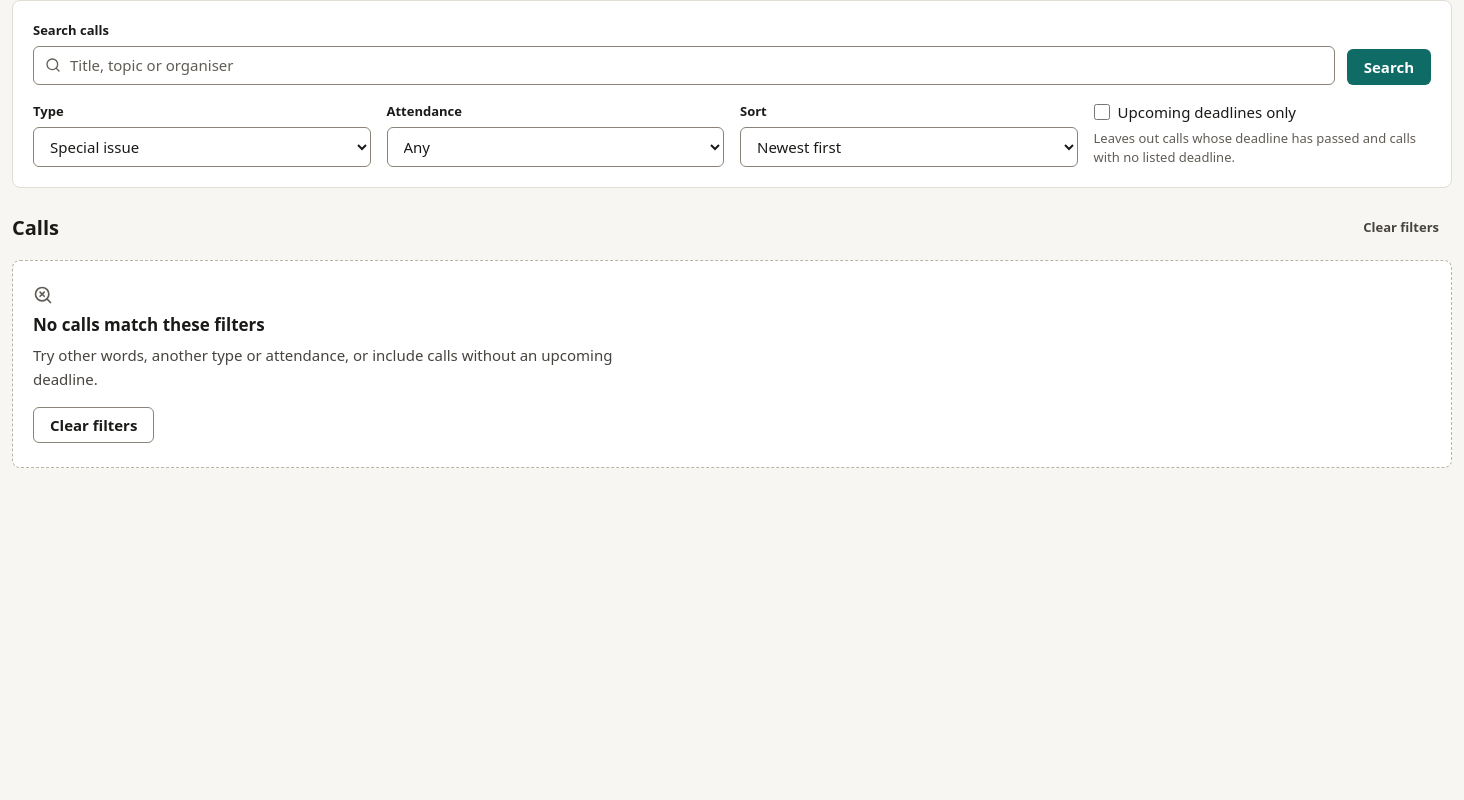
Calls for papers (/browse) › offers Clear filters when nothing matches, and Try again after a failure
Expected: the heading "No calls match these filters" is shown, [33,312,265,336]
Click the 1st button "Clear filters" at [1401, 228], box [1350,212,1452,244]
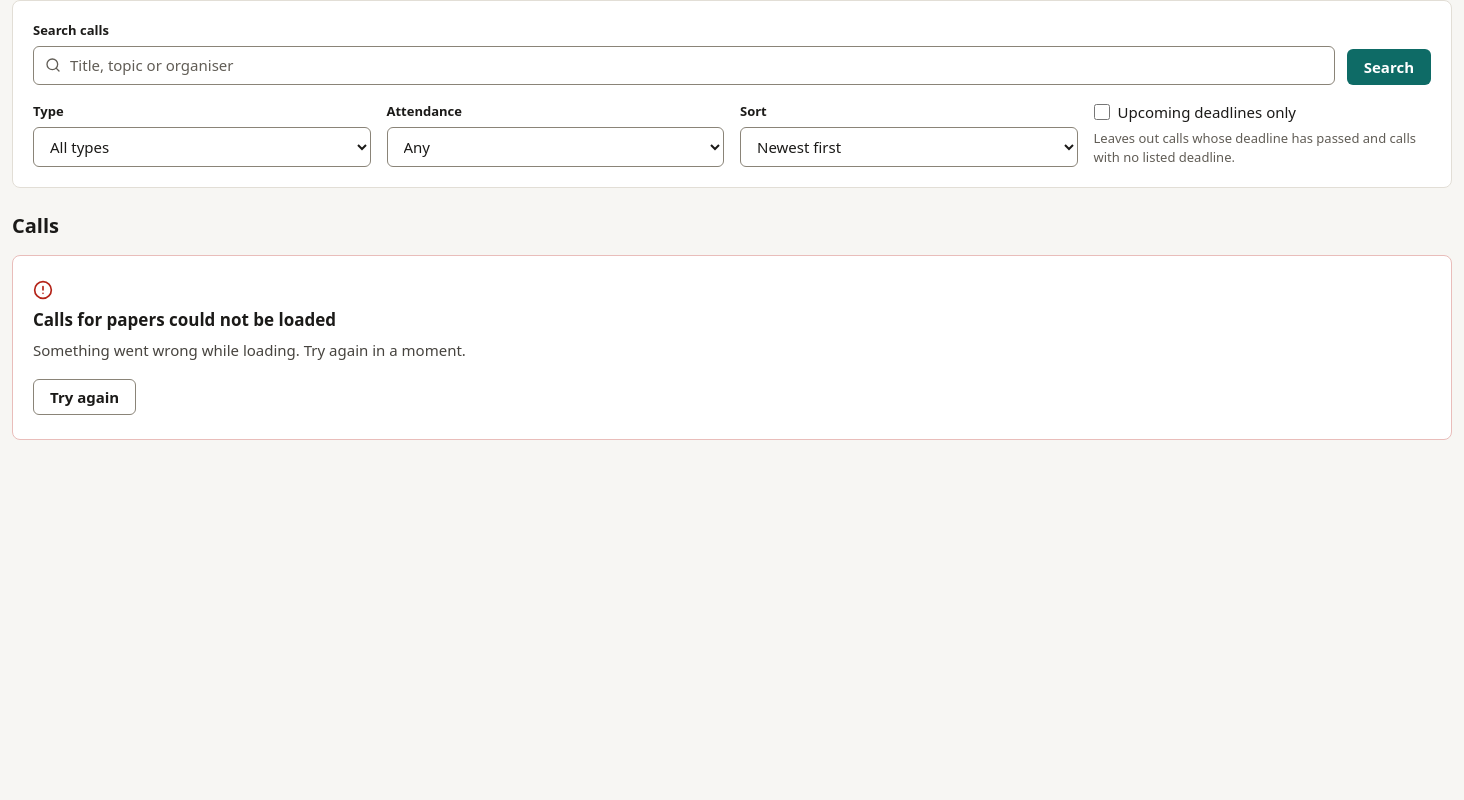
Now the heading "Calls for papers could not be loaded" is shown, box [33,308,336,331]
Click the button "Try again" at [85, 397], box [33,379,136,415]
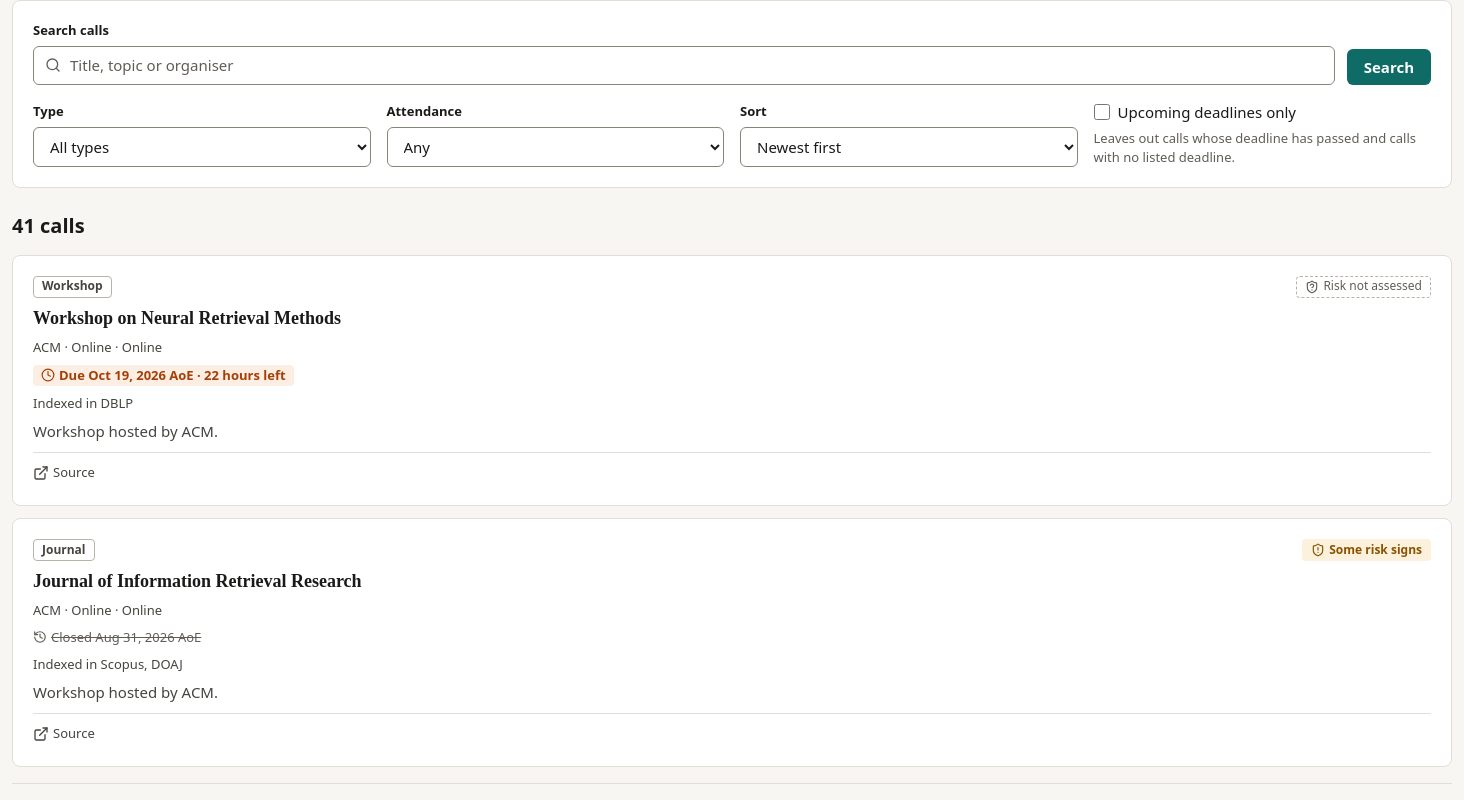
Now the heading "41 calls" is shown, box [12,212,85,238]
